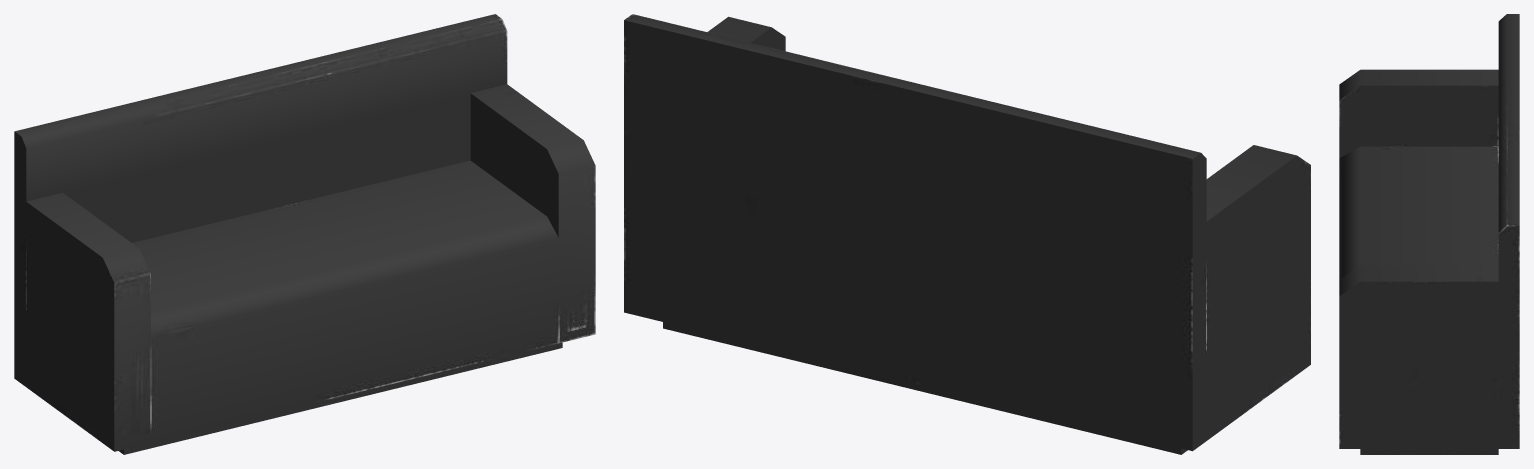
The model's file is Furn_Couch.glb.
3 renders of one model, left to right at view 1: azimuth 30°, elevation 25°; view 2: azimuth 150°, elevation 25°; view 3: azimuth 270°, elevation 25°, orthographic. The views are drawn at different scales.
Visible parts, largest first — view 1: Furn_Couch; view 2: Furn_Couch; view 3: Furn_Couch.
Boxes of the visible parts, box(x1,y1,x2,y2) form: Furn_Couch: box(14, 14, 595, 454); Furn_Couch: box(624, 14, 1310, 454); Furn_Couch: box(1339, 14, 1519, 454).
Size of the model in its own units: 2 by 1.05 by 0.7198.
1 material, 1 textured.
